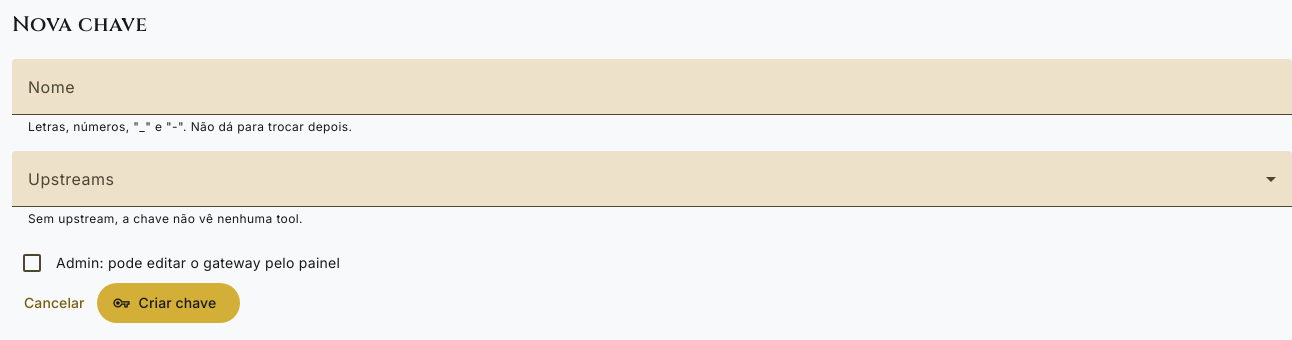
it: KeyCreateDialogComponent › shows a 409 on the name field
This screenshot has width=1292, height=340.
Type "cli" into the field labelled "Nome" at (652, 95), box [28,83,1276,107]
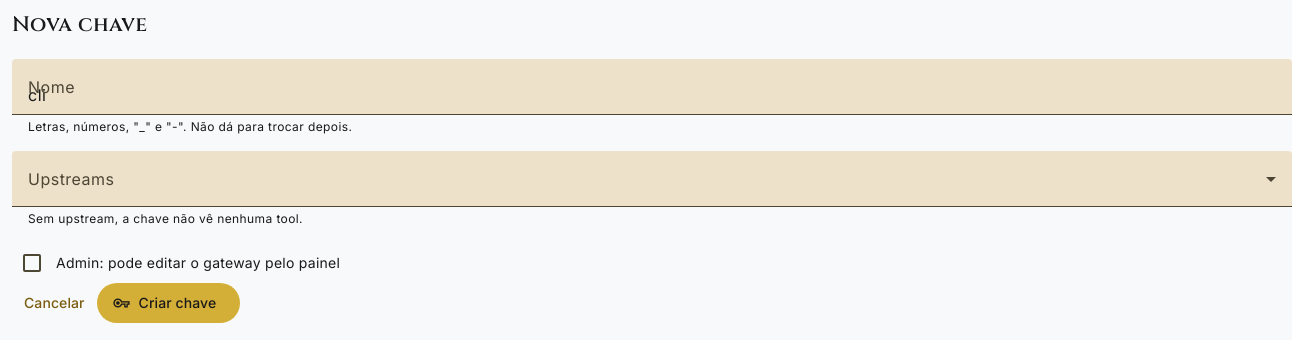
Submit the form
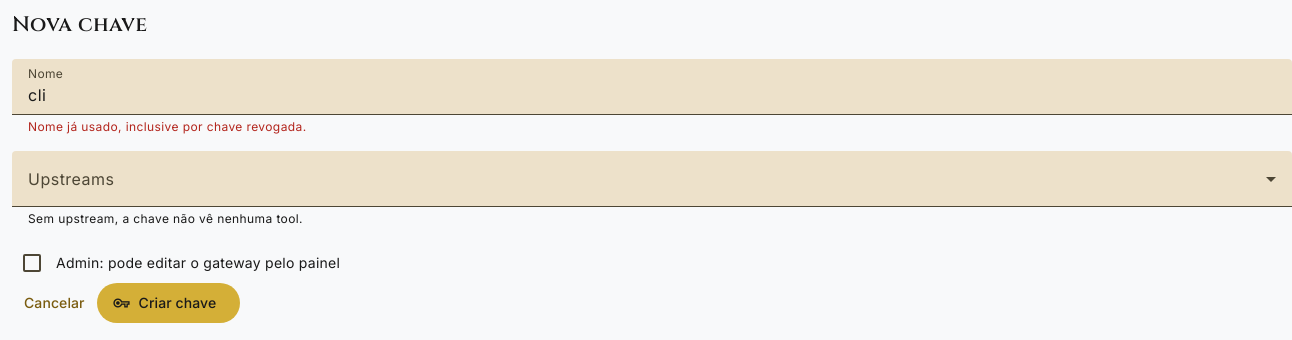
expect the text with class "error" shows "Nome já usado": met, box [28,119,306,134]
